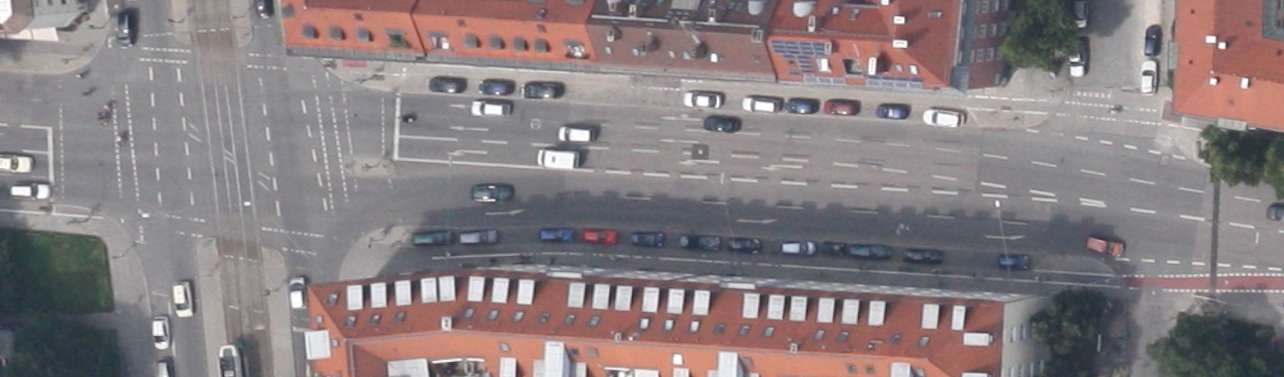car: (1086, 234, 1125, 257), (172, 280, 193, 318), (922, 108, 964, 127), (471, 183, 513, 201), (411, 229, 453, 247), (849, 243, 891, 261), (428, 75, 466, 94), (679, 234, 720, 251), (114, 11, 133, 47), (903, 248, 943, 265), (702, 115, 740, 132), (288, 276, 308, 308), (470, 100, 510, 116), (741, 96, 778, 113), (1069, 39, 1086, 76), (10, 183, 49, 199), (523, 81, 562, 97), (459, 228, 498, 244), (1140, 60, 1158, 94), (726, 236, 760, 254), (152, 315, 169, 349), (478, 78, 512, 95), (876, 102, 910, 119), (557, 126, 595, 141), (683, 92, 721, 107), (631, 230, 664, 247), (781, 240, 815, 256), (998, 253, 1030, 270), (581, 229, 617, 244), (824, 99, 859, 114), (1144, 25, 1162, 54), (539, 227, 573, 242), (785, 98, 817, 113), (820, 241, 844, 257), (1074, 1, 1088, 27)
